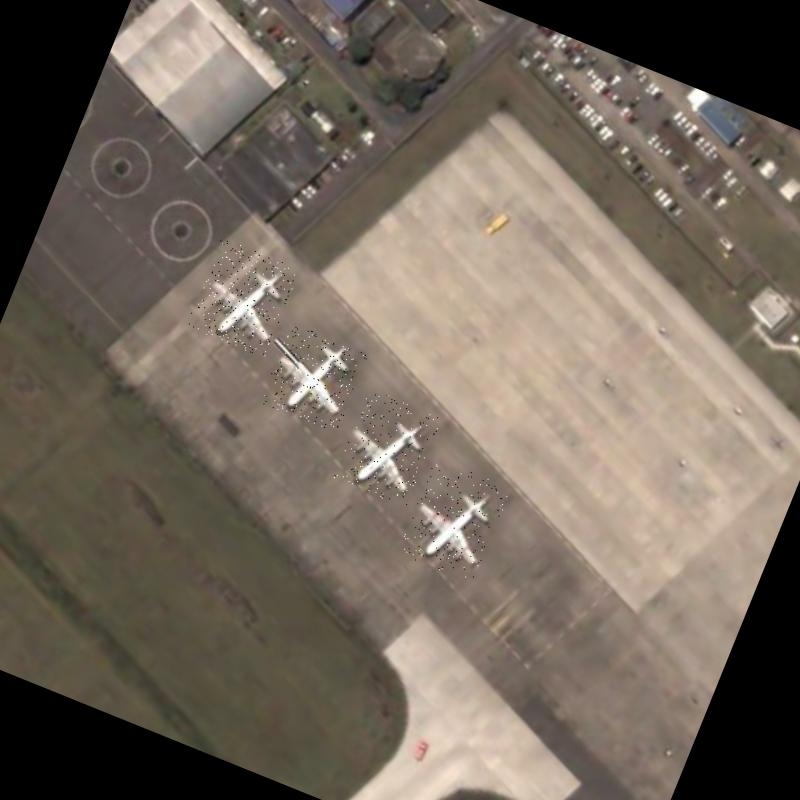A9: (396, 458, 512, 584), (185, 237, 300, 358), (332, 387, 442, 507), (259, 322, 368, 434)
